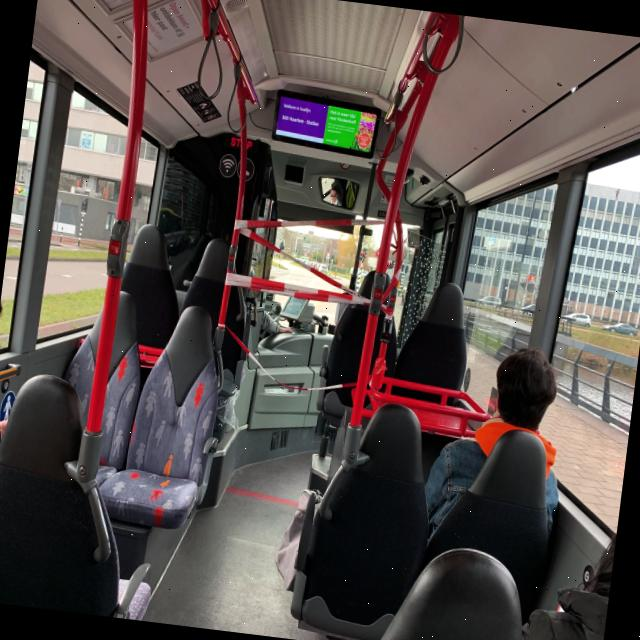empty-seat-frontal: (95, 294, 235, 530)
